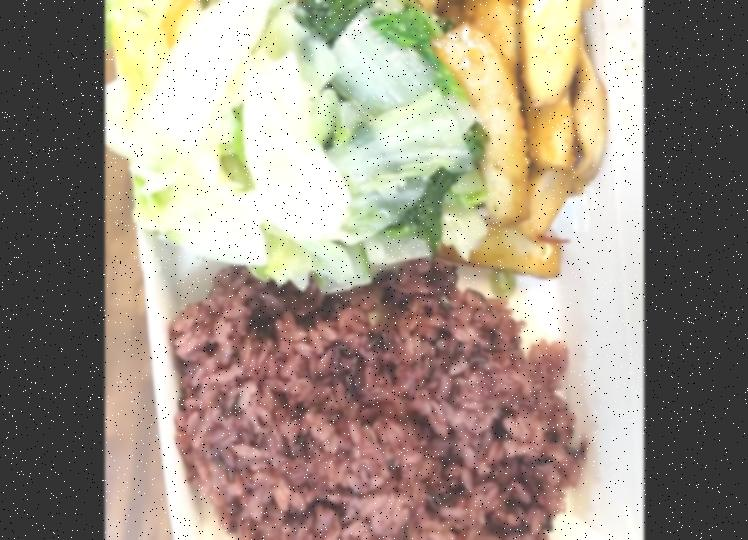box: (104, 0, 642, 540)
purple rice: (169, 257, 585, 540)
side dish: (119, 0, 347, 286), (429, 0, 615, 283), (307, 0, 481, 265)
